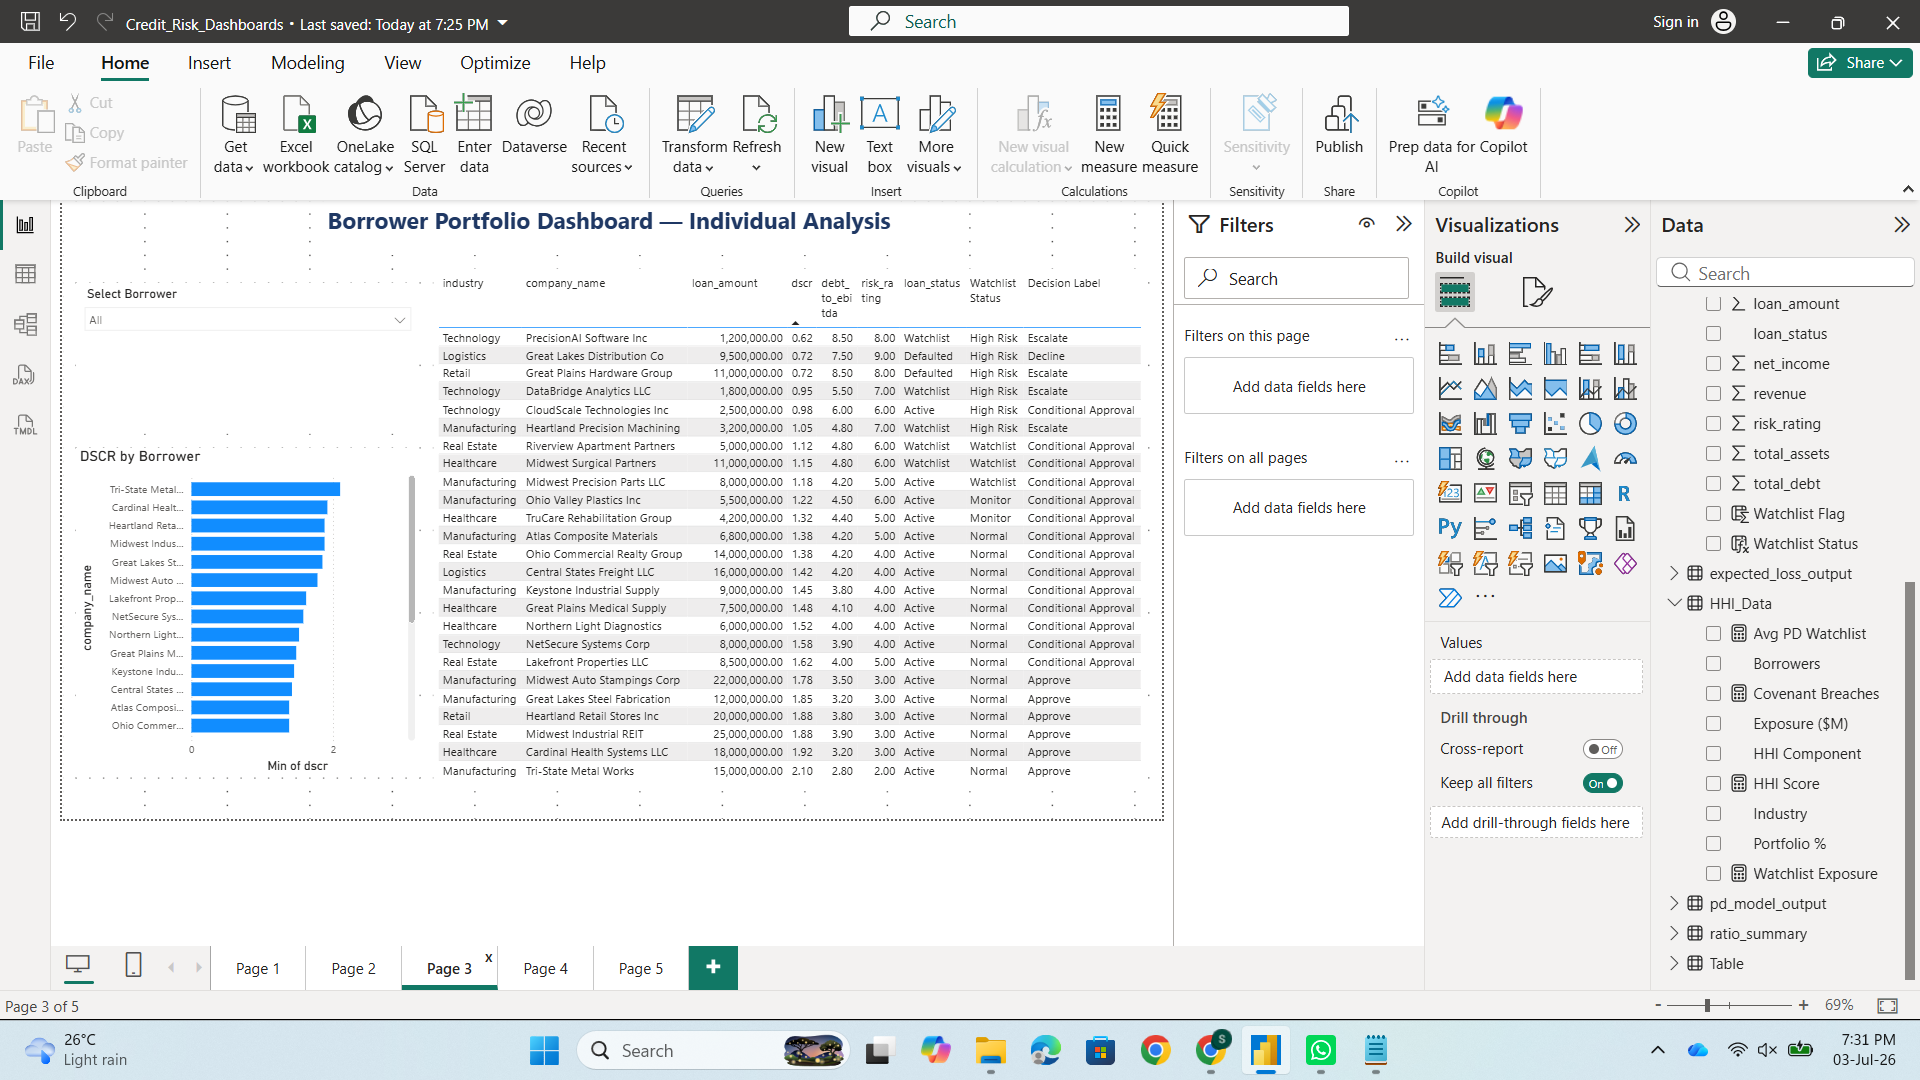

The dashboard page shown, as its layout file describes it:
{"tool":"powerbi","page":{"name":"Page 3","canvas":[1280,720],"ordinal":2},"visuals":[{"type":"textbox","box":[304,0,672,64],"z":0},{"type":"slicer","fields":{"Values":["borrowers_data.company_name"]},"box":[16,96,400,176],"z":1},{"type":"tableEx","fields":{"Values":["borrowers_data.industry","borrowers_data.company_name","borrowers_data.loan_amount","borrowers_data.dscr","borrowers_data.debt_to_ebitda","borrowers_data.risk_rating","borrowers_data.loan_status","borrowers_data.Watchlist Status","borrowers_data.Decision Label"]},"box":[432,80,832,608],"z":2},{"type":"clusteredBarChart","title":"DSCR by Borrower","fields":{"Category":["borrowers_data.company_name"],"Y":["Min(borrowers_data.dscr)"]},"box":[16,288,400,384],"z":3}]}

Visuals, with their boxes on the page's 1280x720 design canvas (x1, y1, x2, y2). These are canvas units, not pixel positions in the 1920x1080 screenshot, which may show the page scaled, cropped or inside an application window:
textbox: box=[304, 0, 976, 64]
slicer - borrowers_data.company_name: box=[16, 96, 416, 272]
tableEx - borrowers_data.industry x borrowers_data.company_name: box=[432, 80, 1264, 688]
"DSCR by Borrower" clusteredBarChart: box=[16, 288, 416, 672]
